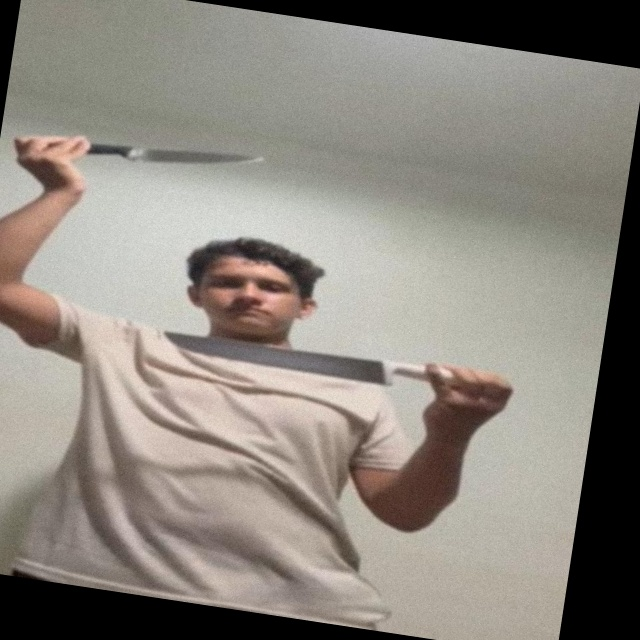Sharp-Object: (165, 330, 392, 384), (126, 140, 258, 180)
